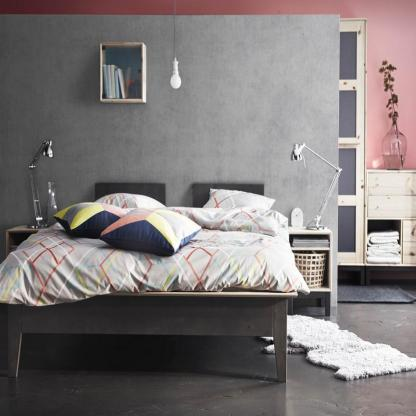Bed: (0, 179, 299, 384)
